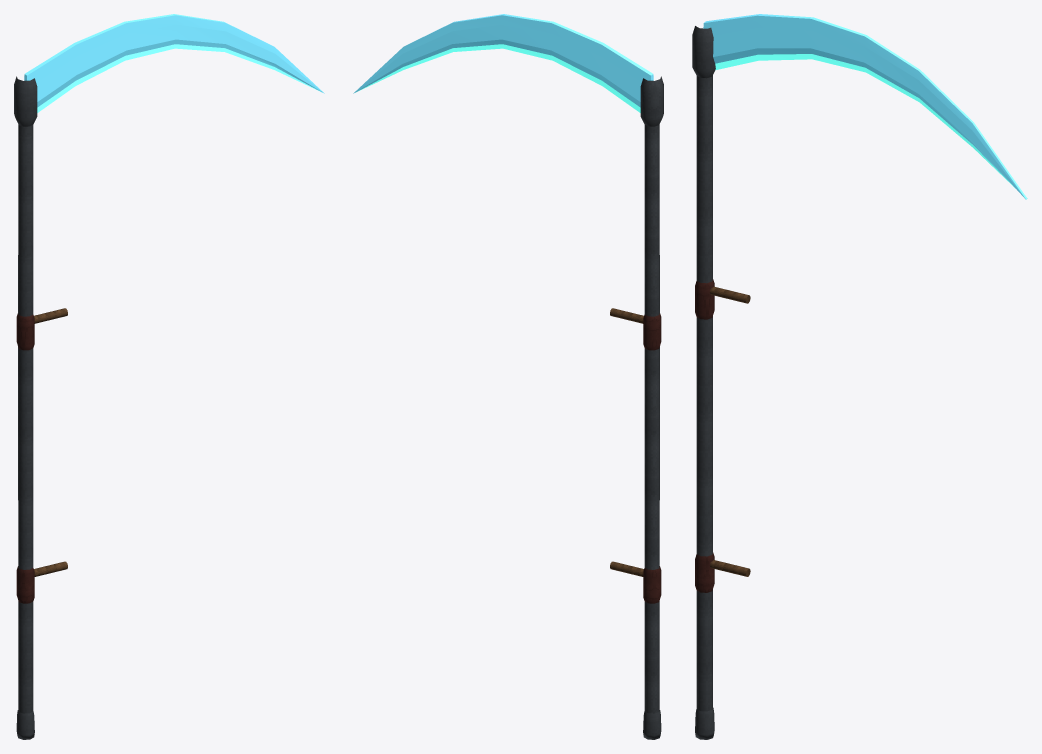
File: crystal-scythe.lod2.glb
3 views of the same model, side by side, from view 1: azimuth 30°, elevation 25°; view 2: azimuth 150°, elevation 25°; view 3: azimuth 330°, elevation 25° (orthographic). The views are drawn at different scales.
Visible parts, largest first — view 1: darksteel / oil-blackened fittings, crystal / faceted crystal, energy / emissive field channel, leather / oiled leather wrap, wood / oiled hardwood; view 2: darksteel / oil-blackened fittings, crystal / faceted crystal, energy / emissive field channel, leather / oiled leather wrap, wood / oiled hardwood; view 3: darksteel / oil-blackened fittings, crystal / faceted crystal, energy / emissive field channel, leather / oiled leather wrap, wood / oiled hardwood.
Boxes of the visible parts, x1,y1,x2,y2 form: darksteel / oil-blackened fittings: [14, 76, 37, 739]; crystal / faceted crystal: [24, 14, 324, 107]; energy / emissive field channel: [37, 44, 320, 112]; leather / oiled leather wrap: [16, 313, 34, 603]; wood / oiled hardwood: [34, 308, 67, 576]; darksteel / oil-blackened fittings: [640, 76, 663, 739]; crystal / faceted crystal: [353, 14, 653, 107]; energy / emissive field channel: [355, 44, 640, 112]; leather / oiled leather wrap: [643, 313, 661, 603]; wood / oiled hardwood: [610, 308, 643, 576]; darksteel / oil-blackened fittings: [692, 26, 715, 739]; crystal / faceted crystal: [703, 14, 1027, 199]; energy / emissive field channel: [715, 54, 1015, 188]; leather / oiled leather wrap: [695, 279, 714, 592]; wood / oiled hardwood: [709, 286, 750, 576].
Bounding box in the file's own units: 0.766 × 1.63 × 0.052.
Materials: 5 (3 with a texture image).
